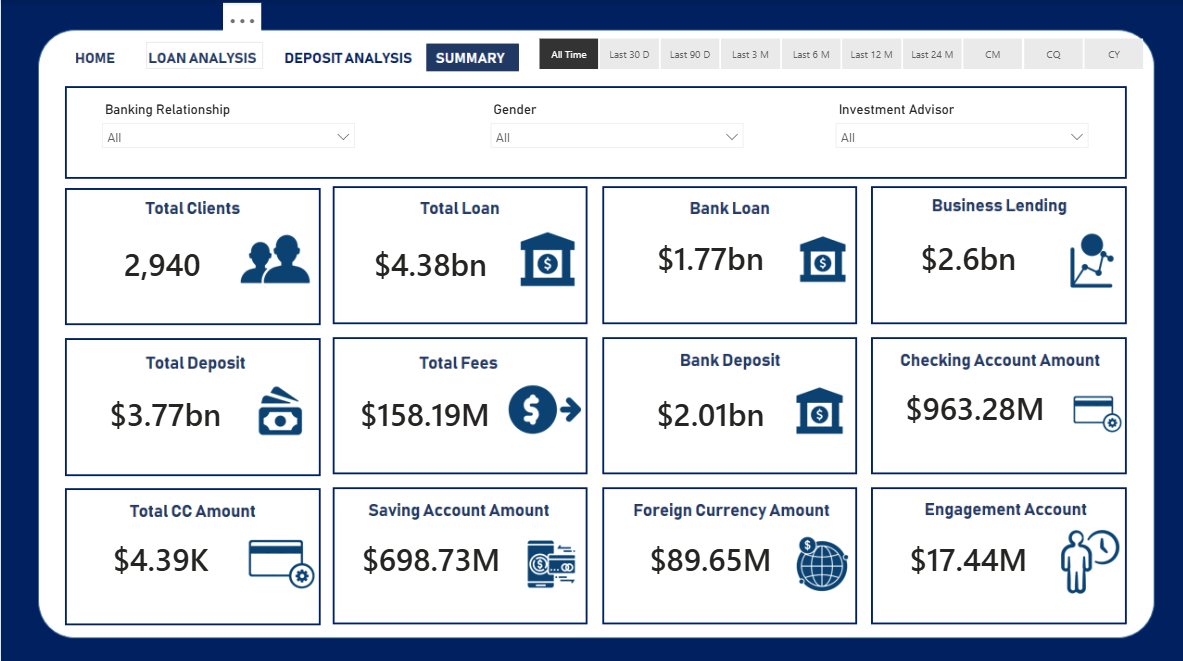

The dashboard page shown, as its layout file describes it:
{"tool":"powerbi","page":{"name":"Summary","canvas":[1280,720],"ordinal":3},"visuals":[{"type":"card","fields":{"Values":["DAX Measures.Engagment Length"]},"box":[946.3,546.4,198.2,114.9],"z":0},{"type":"card","fields":{"Values":["DAX Measures.Foreign Currency Account"]},"box":[667.2,546.4,198.2,114.9],"z":1000},{"type":"card","fields":{"Values":["DAX Measures.Bank Deposit"]},"box":[667.2,390.5,198.2,114.9],"z":2000},{"type":"card","fields":{"Values":["DAX Measures.Checking Accounts"]},"box":[953.4,382.3,198.2,114.9],"z":3000},{"type":"card","fields":{"Values":["DAX Measures.Bank Loan"]},"box":[667.2,220.5,198.2,114.9],"z":4000},{"type":"card","fields":{"Values":["DAX Measures.Business Lending"]},"box":[953.4,220.5,184.1,114.9],"z":5000},{"type":"card","fields":{"Values":["DAX Measures.Savings Account"]},"box":[360,546.4,207.6,114.9],"z":6000},{"type":"card","fields":{"Values":["DAX Measures.Total CC Amount"]},"box":[72.7,546.4,198.2,114.9],"z":7000},{"type":"card","fields":{"Values":["DAX Measures.Total Deposit"]},"box":[78.6,390.5,198.2,114.9],"z":8000},{"type":"card","fields":{"Values":["DAX Measures.Total Fees"]},"box":[365.9,390.5,184.1,114.9],"z":9000},{"type":"card","fields":{"Values":["DAX Measures.Total Clients"]},"box":[75,228.7,198.2,114.9],"z":10000},{"type":"card","fields":{"Values":["DAX Measures.Total Loan"]},"box":[365.9,228.7,195.8,114.9],"z":11000},{"type":"slicer","fields":{"Values":["Banking Relationship.Banking Relationship"]},"box":[98.5,104.3,292.9,75.7],"z":12000},{"type":"slicer","fields":{"Values":["Gender.Gender"]},"box":[518.9,104.3,292.9,75.7],"z":13000},{"type":"slicer","fields":{"Values":["Investment Advisor.Investment Advisor"]},"box":[891.3,104.3,292.9,75.7],"z":14000},{"type":"slicer","fields":{"Values":["Period.Name"]},"box":[555.2,34.6,702.1,46.6],"z":15000},{"type":"actionButton","box":[72.8,44.2,58.5,31],"z":16000},{"type":"actionButton","box":[306.9,44.7,119.4,31],"z":17000},{"type":"actionButton","box":[297.9,44.6,147.8,30.5],"z":18000},{"type":"actionButton","box":[157.1,44.6,125.5,30.5],"z":19000}]}

Visuals, with their boxes in screenshot pixels (x1, y1, x2, y2), scaled from the page's 1280x720 canvas onto the 1183x661 screenshot:
card - DAX Measures.Engagment Length: Rect(875, 502, 1058, 607)
card - DAX Measures.Foreign Currency Account: Rect(617, 502, 800, 607)
card - DAX Measures.Bank Deposit: Rect(617, 359, 800, 464)
card - DAX Measures.Checking Accounts: Rect(881, 351, 1064, 456)
card - DAX Measures.Bank Loan: Rect(617, 202, 800, 308)
card - DAX Measures.Business Lending: Rect(881, 202, 1051, 308)
card - DAX Measures.Savings Account: Rect(333, 502, 525, 607)
card - DAX Measures.Total CC Amount: Rect(67, 502, 250, 607)
card - DAX Measures.Total Deposit: Rect(73, 359, 256, 464)
card - DAX Measures.Total Fees: Rect(338, 359, 508, 464)
card - DAX Measures.Total Clients: Rect(69, 210, 252, 315)
card - DAX Measures.Total Loan: Rect(338, 210, 519, 315)
slicer - Banking Relationship.Banking Relationship: Rect(91, 96, 362, 165)
slicer - Gender.Gender: Rect(480, 96, 750, 165)
slicer - Investment Advisor.Investment Advisor: Rect(824, 96, 1094, 165)
slicer - Period.Name: Rect(513, 32, 1162, 75)
actionButton: Rect(67, 41, 121, 69)
actionButton: Rect(284, 41, 394, 69)
actionButton: Rect(275, 41, 412, 69)
actionButton: Rect(145, 41, 261, 69)
